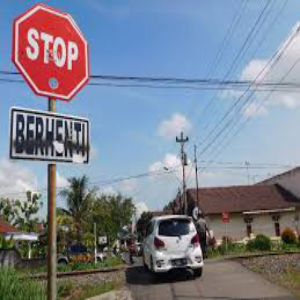STOP_SIGN: (11, 2, 89, 102)
